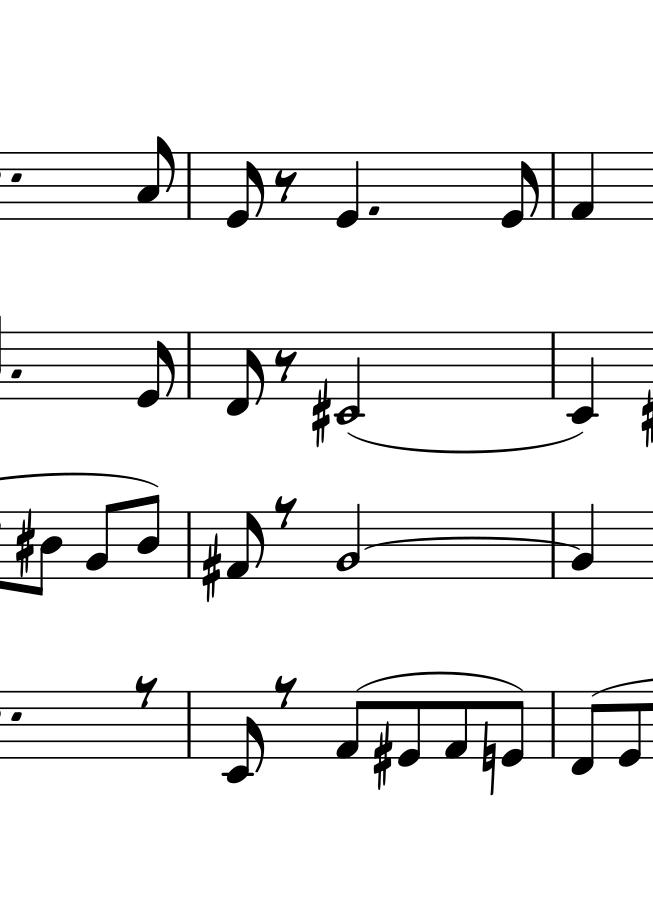2_-2: (334, 329, 365, 427)
2_2: (335, 503, 363, 579)
4_-2: (569, 332, 595, 423)
4_0: (334, 150, 361, 230)
4_1: (569, 151, 596, 222)
4_2: (572, 503, 597, 581)
8_-1: (226, 331, 265, 417), (569, 691, 602, 777)
8_-2: (224, 690, 266, 784)
8_0: (227, 153, 263, 230), (501, 690, 529, 769), (617, 691, 642, 769), (398, 690, 422, 769)
8_1: (227, 511, 266, 580), (334, 691, 366, 761), (442, 690, 468, 762)
8_2: (136, 333, 176, 409), (502, 152, 539, 229), (85, 501, 117, 580)
8_3: (137, 135, 174, 220)
8_4: (36, 510, 63, 599), (136, 493, 161, 581)
Natural: (481, 725, 497, 792)
Rests8: (273, 168, 300, 205), (272, 349, 298, 385), (272, 495, 298, 531), (134, 674, 158, 708), (274, 675, 298, 709)
Sharp: (311, 380, 332, 446), (201, 534, 222, 600), (14, 514, 35, 578), (372, 727, 393, 790)
Single_barline: (545, 512, 561, 576), (181, 513, 197, 577), (181, 693, 197, 757), (546, 691, 560, 759), (181, 154, 196, 217), (546, 333, 560, 397), (182, 334, 196, 397), (546, 149, 557, 218)
Slur: (348, 433, 585, 454), (365, 535, 581, 552), (357, 671, 521, 693)
dot: (367, 203, 380, 218)
